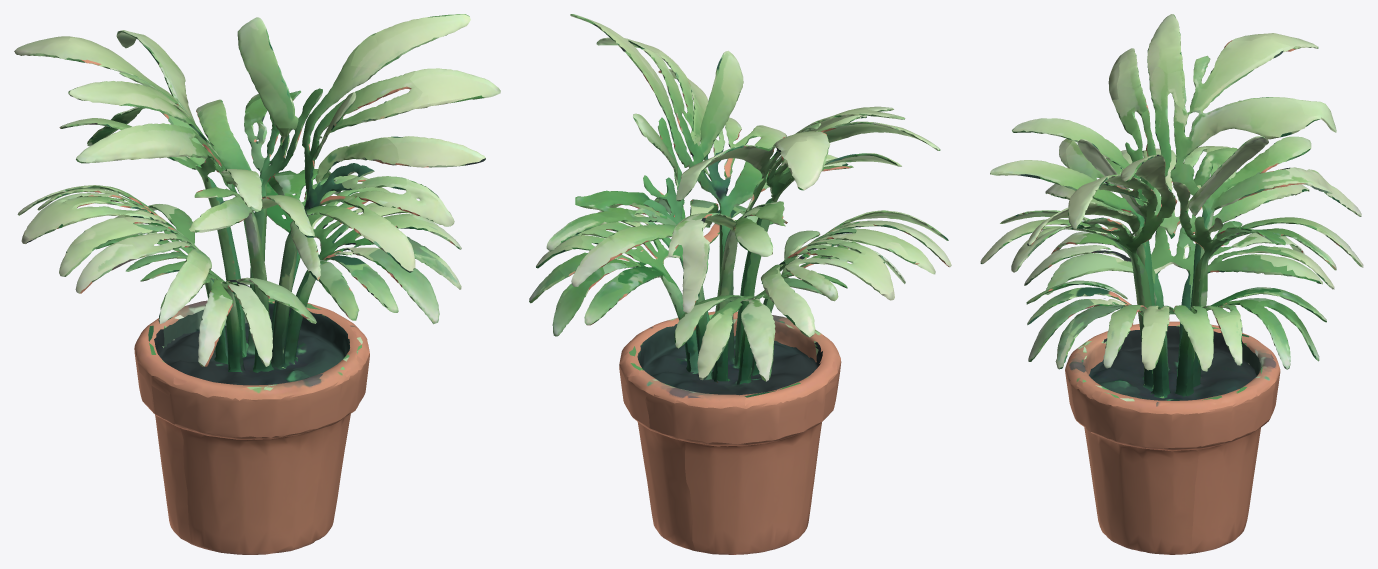
The model's file is palm_v2.glb.
3 renders of one model, left to right at view 1: azimuth 30°, elevation 25°; view 2: azimuth 150°, elevation 25°; view 3: azimuth 270°, elevation 25°, orthographic. The views are drawn at different scales.
Visible parts, largest first — view 1: tmpre2kddby.ply; view 2: tmpre2kddby.ply; view 3: tmpre2kddby.ply.
Boxes of the visible parts, x1,y1,x2,y2 form: tmpre2kddby.ply: (14, 14, 500, 554); tmpre2kddby.ply: (529, 14, 951, 554); tmpre2kddby.ply: (980, 14, 1363, 554).
Size of the model in its own units: 0.8627 by 0.987 by 0.7916.
1 material, 1 textured.
